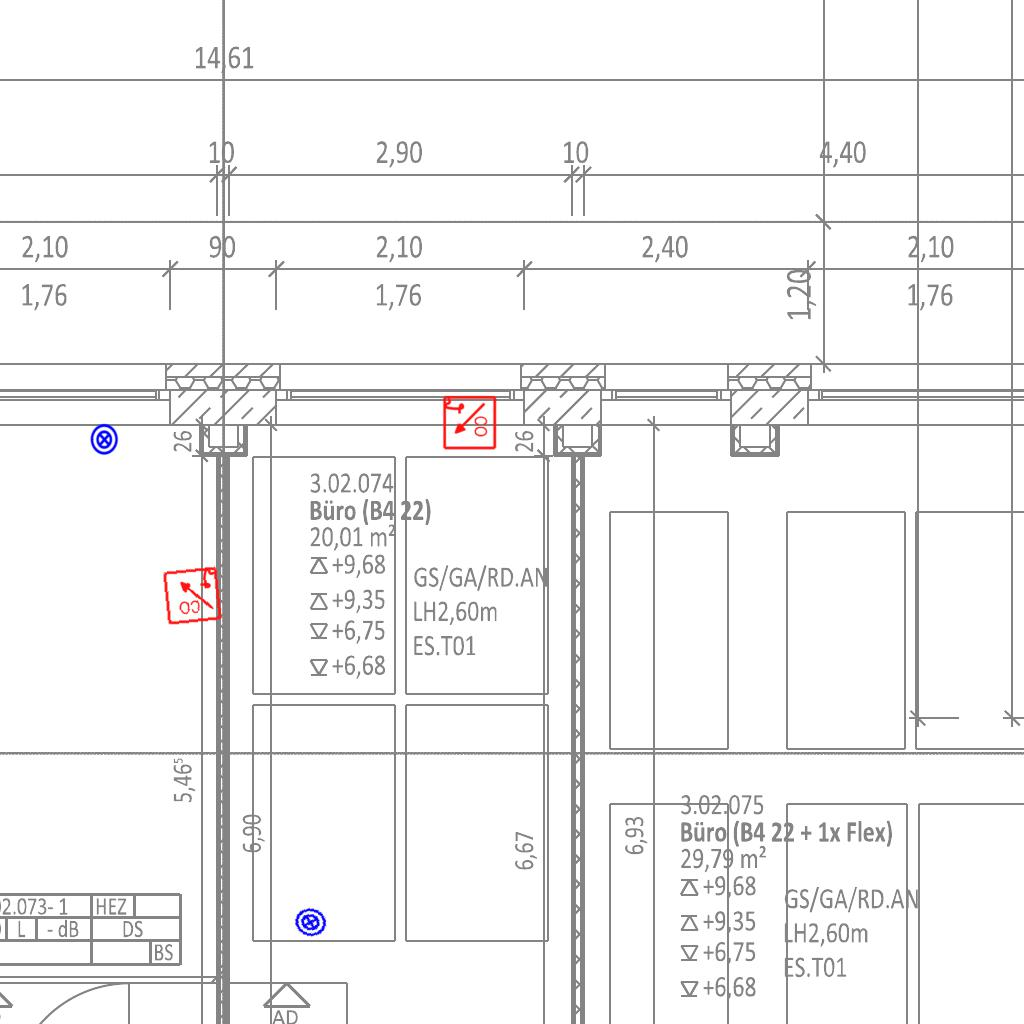ROA_Rauchmelder_optisch_mit_Signalgeber_(Sockelsirene): (161, 564, 223, 626), (441, 395, 497, 451)
Taster_beleuchtet: (290, 902, 331, 943), (88, 423, 121, 456)
